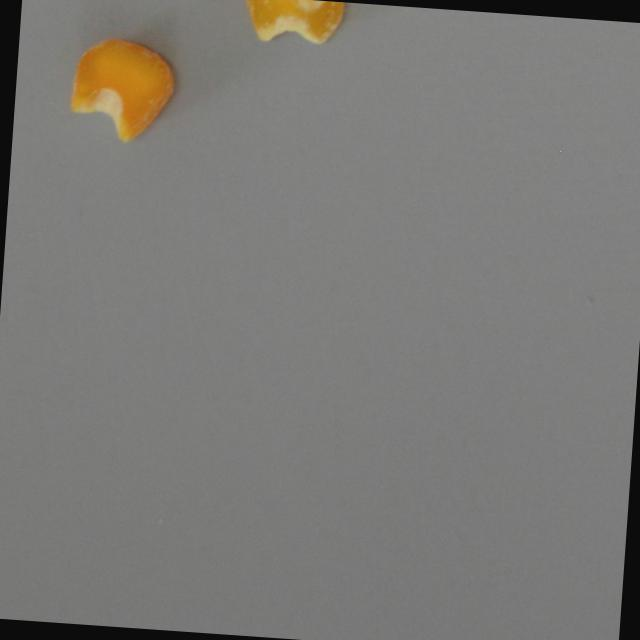pelicula: (65, 32, 178, 144), (240, 0, 347, 47)
